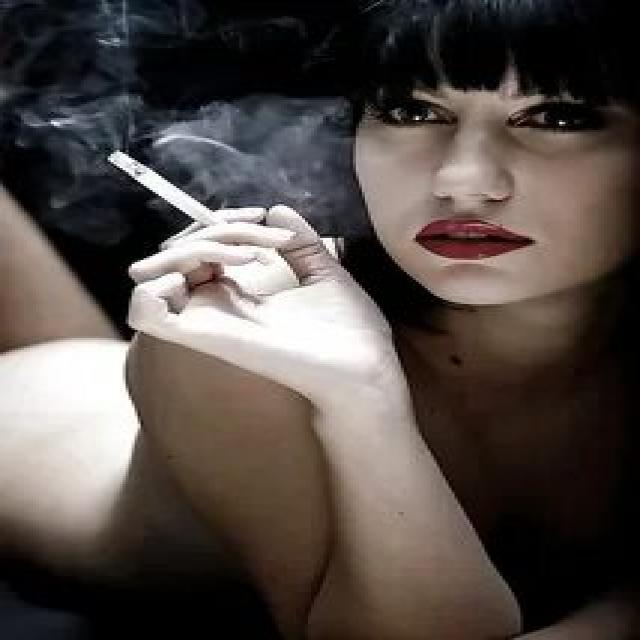cigarette: (108, 142, 242, 234)
